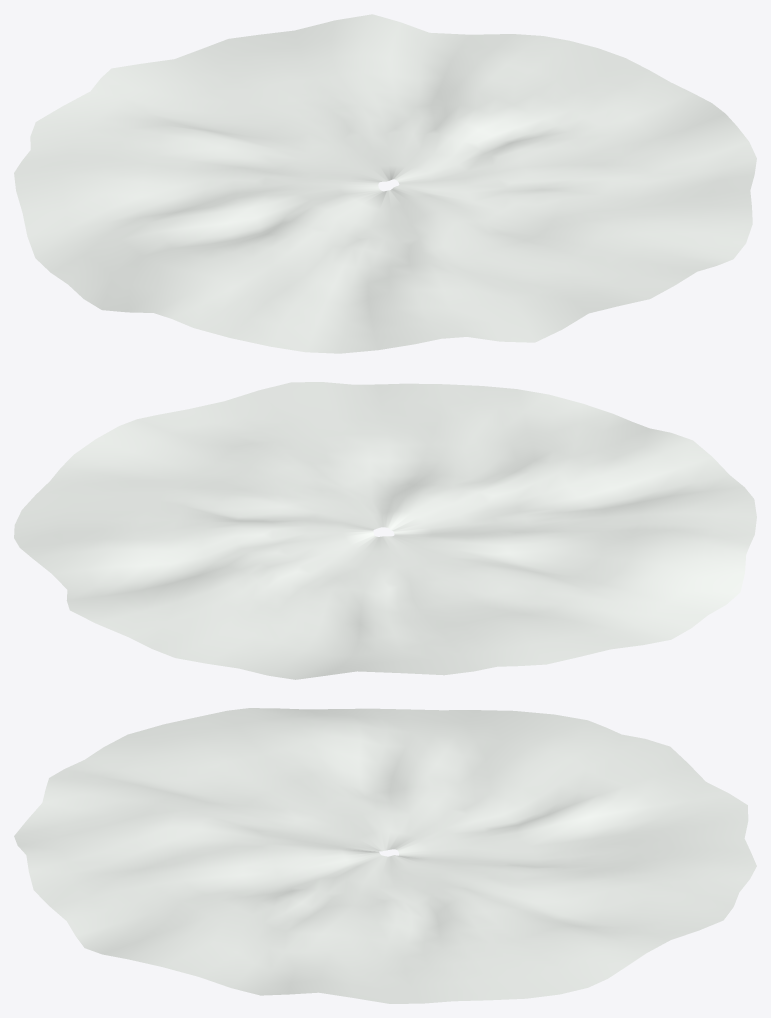
File: E3D-Disk37-bh10.FBX
3 renders of one model, top to bottom at view 1: azimuth 30°, elevation 25°; view 2: azimuth 150°, elevation 25°; view 3: azimuth 270°, elevation 25°, orthographic. The views are drawn at different scales.
Visible parts, largest first — view 1: skill_1071_qisihuisheng_Animator_01; view 2: skill_1071_qisihuisheng_Animator_01; view 3: skill_1071_qisihuisheng_Animator_01.
Boxes of the visible parts, x1,y1,x2,y2 form: skill_1071_qisihuisheng_Animator_01: (14,14,756,353); skill_1071_qisihuisheng_Animator_01: (14,382,756,679); skill_1071_qisihuisheng_Animator_01: (14,708,756,1003).
Size of the model in its own units: 91.47 by 3.02 by 92.37.
Materials: 1 (1 with a texture image).
